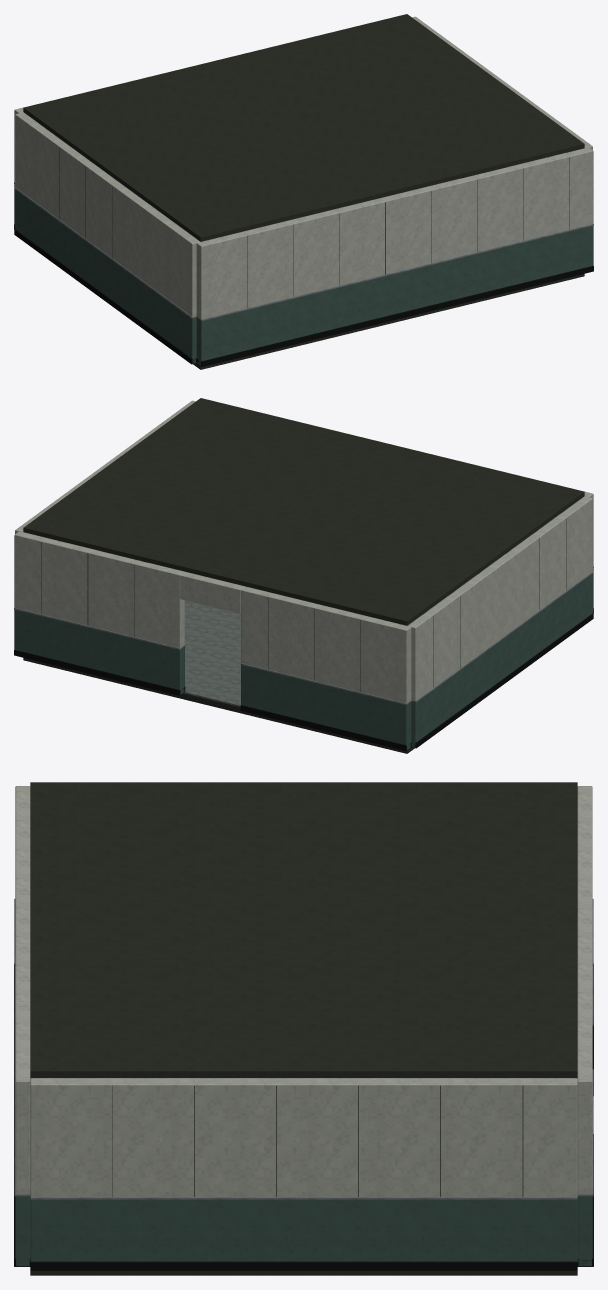
File: Lab_Room.fbx
3 views of the same model, one above another, from view 1: azimuth 30°, elevation 25°; view 2: azimuth 150°, elevation 25°; view 3: azimuth 270°, elevation 25° (orthographic). The views are drawn at different scales.
Visible parts, largest first — view 1: Lab_Room_walls, Lab_Room_ceiling, Lab_Room_floor; view 2: Lab_Room_walls, Lab_Room_ceiling, Lab_Room_floor; view 3: Lab_Room_ceiling, Lab_Room_walls, Lab_Room_floor.
Boxes of the visible parts, x1,y1,x2,y2 form: Lab_Room_walls: [14, 14, 593, 366]; Lab_Room_ceiling: [23, 14, 584, 241]; Lab_Room_floor: [193, 178, 584, 369]; Lab_Room_walls: [14, 398, 593, 750]; Lab_Room_ceiling: [23, 398, 584, 625]; Lab_Room_floor: [23, 562, 414, 753]; Lab_Room_ceiling: [30, 782, 577, 1077]; Lab_Room_walls: [14, 786, 593, 1270]; Lab_Room_floor: [30, 1078, 577, 1275].
Bounding box in the file's own units: 10.48 × 3.3 × 8.48.
10 materials, 10 textured.
